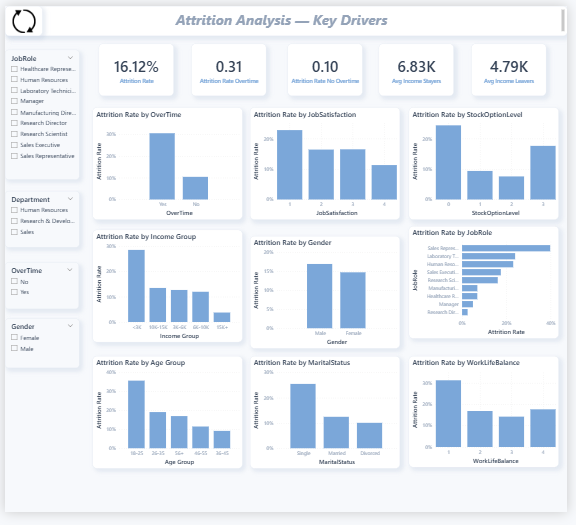

The dashboard page shown, as its layout file describes it:
{"tool":"powerbi","page":{"name":"Attrition Analysis","canvas":[1500,1350],"ordinal":3},"visuals":[{"type":"card","fields":{"Values":["HR.Attrition Rate"]},"box":[250,98.3,200,140],"z":0},{"type":"card","fields":{"Values":["HR.Attrition Rate Overtime"]},"box":[496.7,98.3,200,140],"z":1000},{"type":"card","fields":{"Values":["HR.Attrition Rate No Overtime"]},"box":[751.7,98.3,200,140],"z":2000},{"type":"card","fields":{"Values":["HR.Avg Income Leavers"]},"box":[1241.7,98.3,200,140],"z":3000},{"type":"card","fields":{"Values":["HR.Avg Income Stayers"]},"box":[996.7,98.3,200,140],"z":4000},{"type":"clusteredColumnChart","fields":{"Category":["HR.OverTime"],"Y":["HR.Attrition Rate"]},"box":[233.3,268.3,400,300],"z":5000},{"type":"clusteredColumnChart","fields":{"Category":["HR.JobSatisfaction"],"Y":["HR.Attrition Rate"]},"box":[651.7,268.3,400,300],"z":6000},{"type":"clusteredColumnChart","fields":{"Category":["HR.WorkLifeBalance"],"Y":["HR.Attrition Rate"]},"box":[1076.7,931.7,400,296.7],"z":7000},{"type":"clusteredColumnChart","fields":{"Category":["HR.Age Group"],"Y":["HR.Attrition Rate"]},"box":[233.3,931.7,400,300],"z":8000},{"type":"clusteredColumnChart","fields":{"Category":["HR.Income Group"],"Y":["HR.Attrition Rate"]},"box":[233.3,596.7,400,300],"z":9000},{"type":"clusteredBarChart","fields":{"Category":["HR.JobRole"],"Y":["HR.Attrition Rate"]},"box":[1076.7,585,400,300],"z":10000},{"type":"clusteredColumnChart","fields":{"Category":["HR.MaritalStatus"],"Y":["HR.Attrition Rate"]},"box":[651.7,931.7,400,300],"z":11000},{"type":"clusteredColumnChart","fields":{"Category":["HR.StockOptionLevel"],"Y":["HR.Attrition Rate"]},"box":[1076.7,268.3,400,300],"z":12000},{"type":"clusteredColumnChart","fields":{"Category":["HR.Gender"],"Y":["HR.Attrition Rate"]},"box":[651.7,613.3,400,300],"z":13000},{"type":"slicer","fields":{"Values":["HR.OverTime"]},"box":[0,683.3,196.7,125],"z":14000},{"type":"slicer","fields":{"Values":["HR.JobRole"]},"box":[0,115,198.3,346.7],"z":15000},{"type":"slicer","fields":{"Values":["HR.Department"]},"box":[0,493.3,198.3,150],"z":16000},{"type":"slicer","fields":{"Values":["HR.Gender"]},"box":[0,831.7,198.3,131.7],"z":17000},{"type":"textbox","box":[0,0,1500,80],"z":18000},{"type":"image","box":[0,0,100,80],"z":19000}]}

Visuals, with their boxes on the page's 1500x1350 design canvas (x1, y1, x2, y2). These are canvas units, not pixel positions in the 576x525 screenshot, which may show the page scaled, cropped or inside an application window:
card - HR.Attrition Rate: (left=250, top=98, right=450, bottom=238)
card - HR.Attrition Rate Overtime: (left=497, top=98, right=697, bottom=238)
card - HR.Attrition Rate No Overtime: (left=752, top=98, right=952, bottom=238)
card - HR.Avg Income Leavers: (left=1242, top=98, right=1442, bottom=238)
card - HR.Avg Income Stayers: (left=997, top=98, right=1197, bottom=238)
clusteredColumnChart - HR.OverTime x HR.Attrition Rate: (left=233, top=268, right=633, bottom=568)
clusteredColumnChart - HR.JobSatisfaction x HR.Attrition Rate: (left=652, top=268, right=1052, bottom=568)
clusteredColumnChart - HR.WorkLifeBalance x HR.Attrition Rate: (left=1077, top=932, right=1477, bottom=1228)
clusteredColumnChart - HR.Age Group x HR.Attrition Rate: (left=233, top=932, right=633, bottom=1232)
clusteredColumnChart - HR.Income Group x HR.Attrition Rate: (left=233, top=597, right=633, bottom=897)
clusteredBarChart - HR.JobRole x HR.Attrition Rate: (left=1077, top=585, right=1477, bottom=885)
clusteredColumnChart - HR.MaritalStatus x HR.Attrition Rate: (left=652, top=932, right=1052, bottom=1232)
clusteredColumnChart - HR.StockOptionLevel x HR.Attrition Rate: (left=1077, top=268, right=1477, bottom=568)
clusteredColumnChart - HR.Gender x HR.Attrition Rate: (left=652, top=613, right=1052, bottom=913)
slicer - HR.OverTime: (left=0, top=683, right=197, bottom=808)
slicer - HR.JobRole: (left=0, top=115, right=198, bottom=462)
slicer - HR.Department: (left=0, top=493, right=198, bottom=643)
slicer - HR.Gender: (left=0, top=832, right=198, bottom=963)
textbox: (left=0, top=0, right=1500, bottom=80)
image: (left=0, top=0, right=100, bottom=80)
